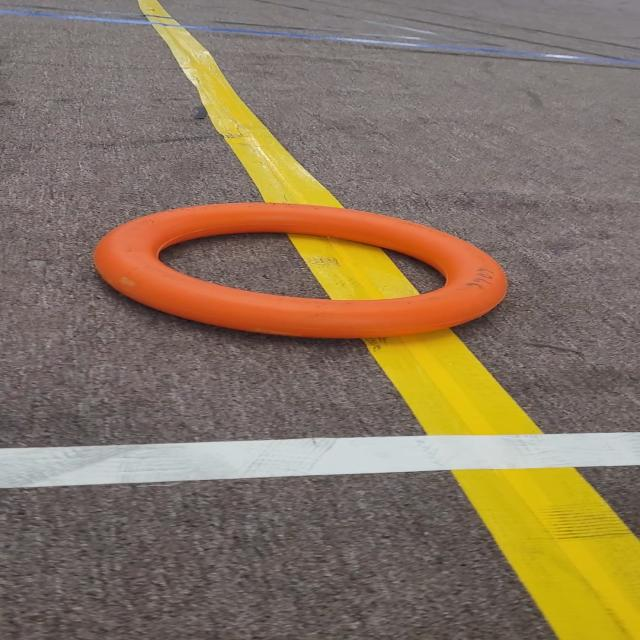note: (77, 188, 535, 366)
